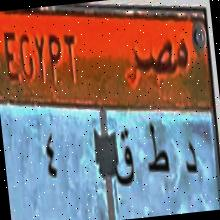4: (40, 124, 63, 191)
Taa: (140, 115, 171, 190)
daal: (175, 124, 202, 191)
qaaf: (110, 128, 138, 194)
